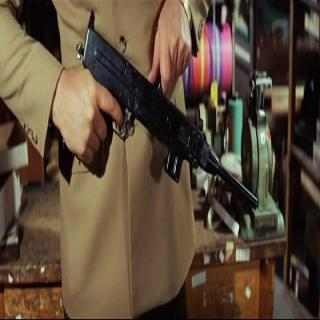gun: (73, 8, 259, 225)
